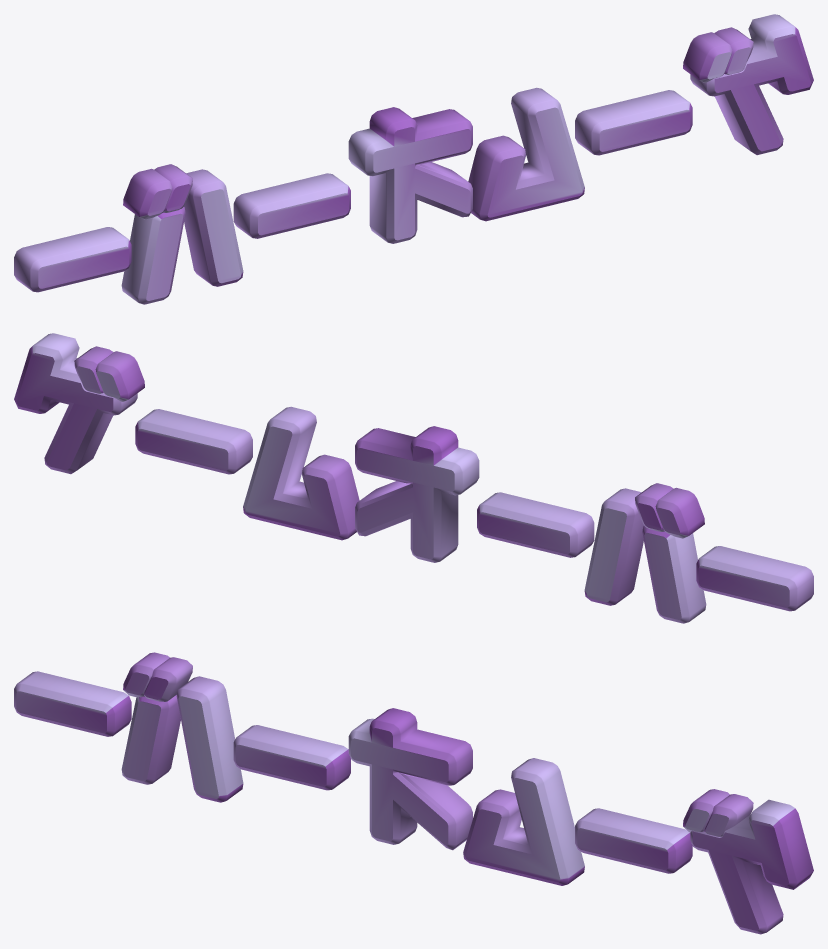
The model's file is gameover.obj.
3 views of the same model, one above another, from view 1: azimuth 30°, elevation 25°; view 2: azimuth 150°, elevation 25°; view 3: azimuth 330°, elevation 25° (orthographic).
Parts seen in each view (by area): view 1: テキスト.004; view 2: テキスト.004; view 3: テキスト.004.
Part boxes in pixels (x1,y1,x2,y2): テキスト.004: (14,14,813,304); テキスト.004: (14,333,813,623); テキスト.004: (14,652,813,934).
Bounding box in the file's own units: 7.45 × 1.1 × 0.3656.
1 material, 1 textured.
